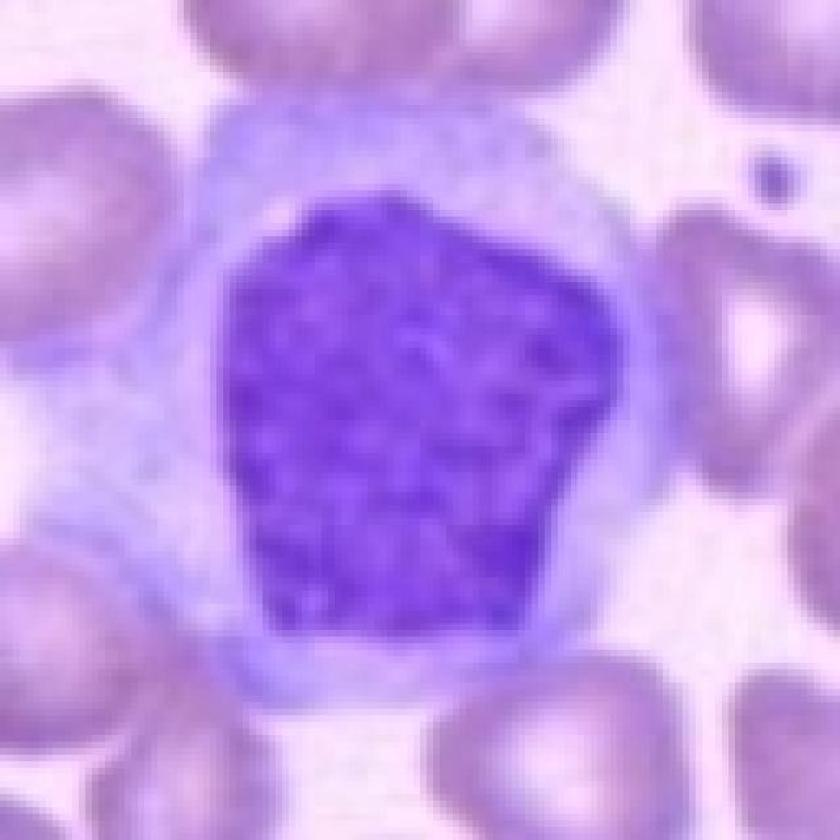lymphocyte: (31, 42, 710, 720)
